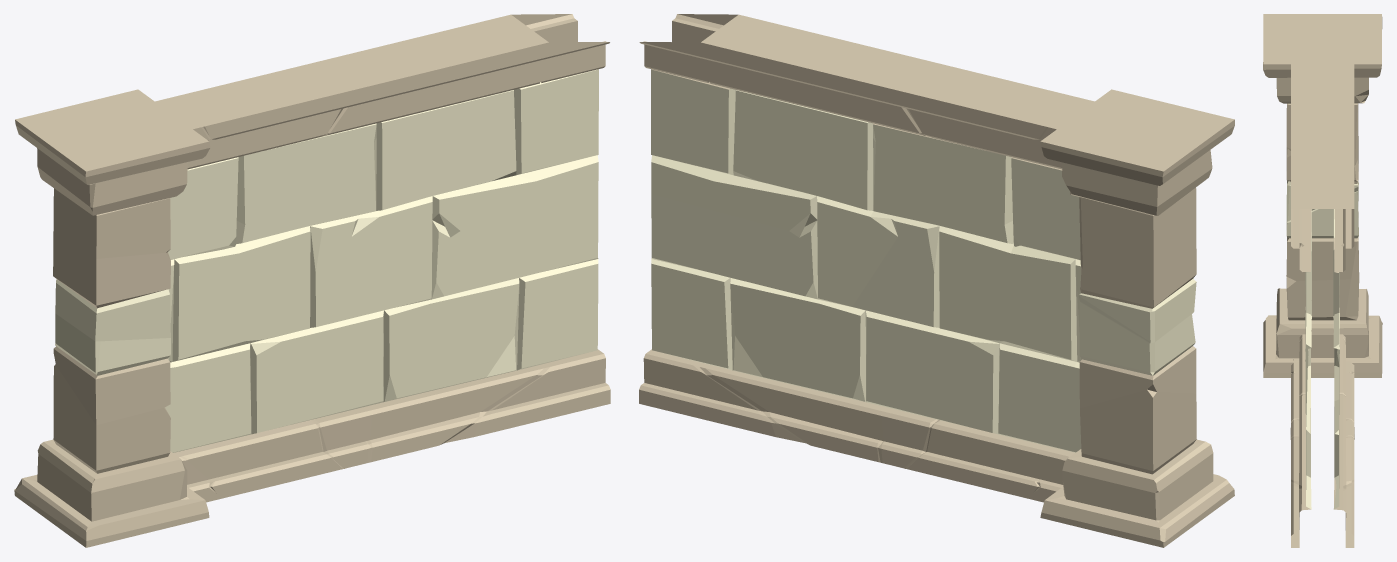
Rendered from SM_SM_Peller_01.014.fbx.
3 renders of one model, left to right at view 1: azimuth 30°, elevation 25°; view 2: azimuth 150°, elevation 25°; view 3: azimuth 270°, elevation 25°, orthographic. The views are drawn at different scales.
Parts seen in each view (by area): view 1: SM_Peller_01.014; view 2: SM_Peller_01.014; view 3: SM_Peller_01.014.
Boxes of the visible parts, box(x1,y1,x2,y2) form: SM_Peller_01.014: box(14, 14, 610, 547); SM_Peller_01.014: box(639, 14, 1234, 547); SM_Peller_01.014: box(1263, 14, 1382, 547).
Size of the model in its own units: 452 by 300 by 104.
